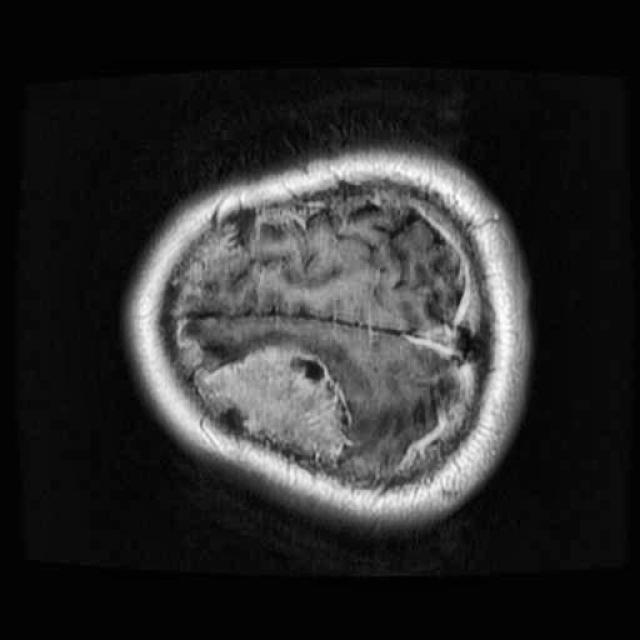Tumor: (176, 331, 366, 478)
